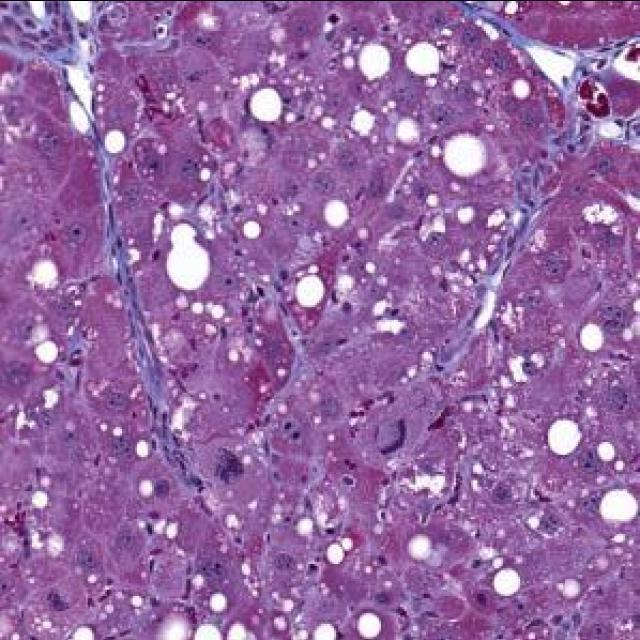fibrosis: (0, 2, 204, 491), (471, 10, 625, 328)
